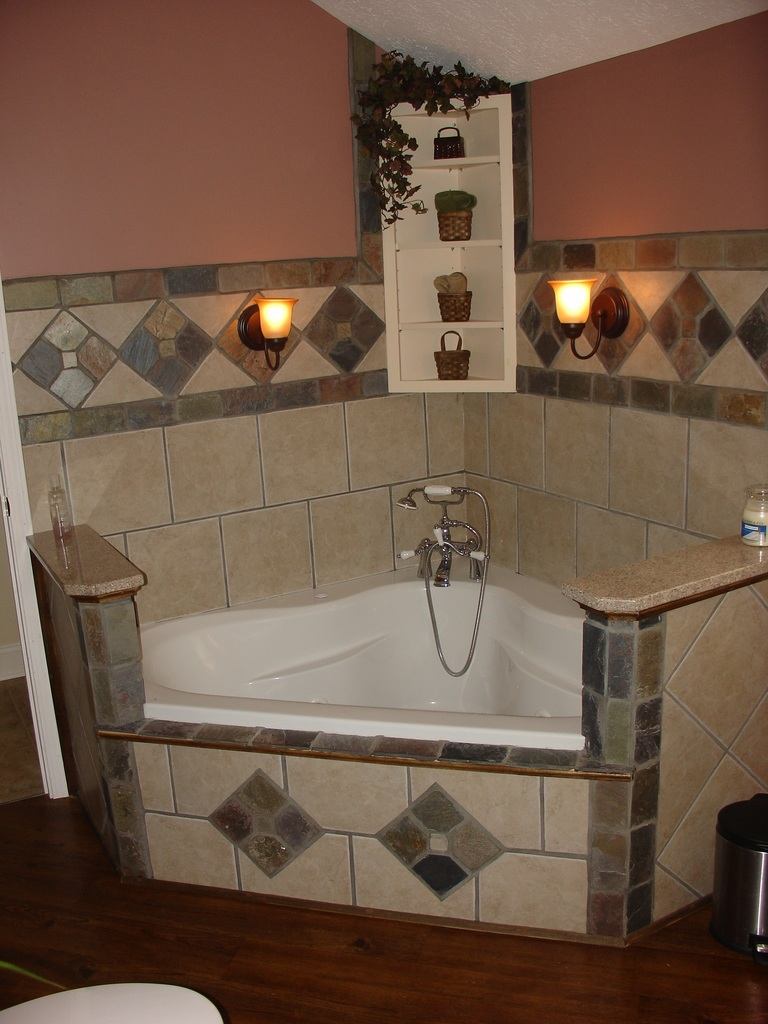tap: (378, 464, 517, 680)
